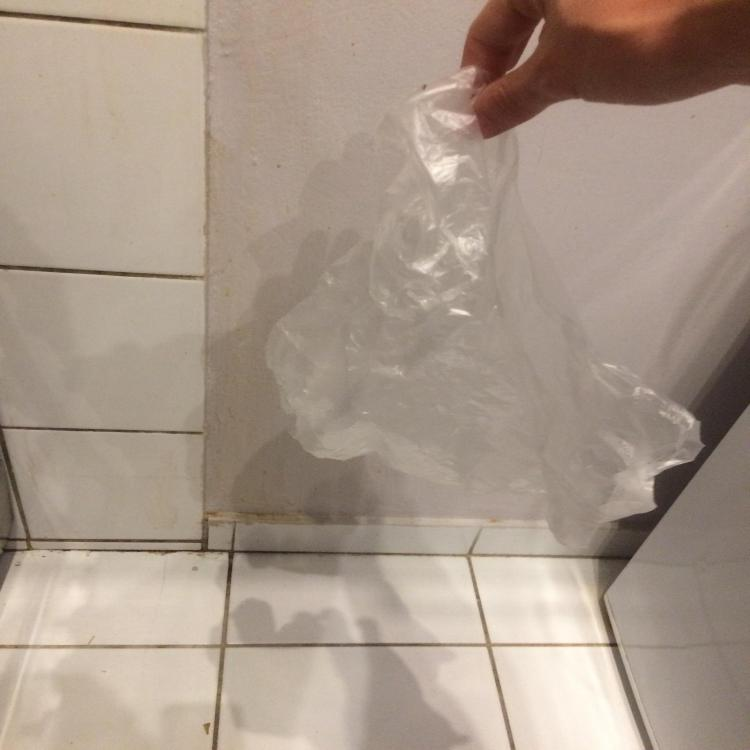Plastic film: (266, 66, 706, 549)
